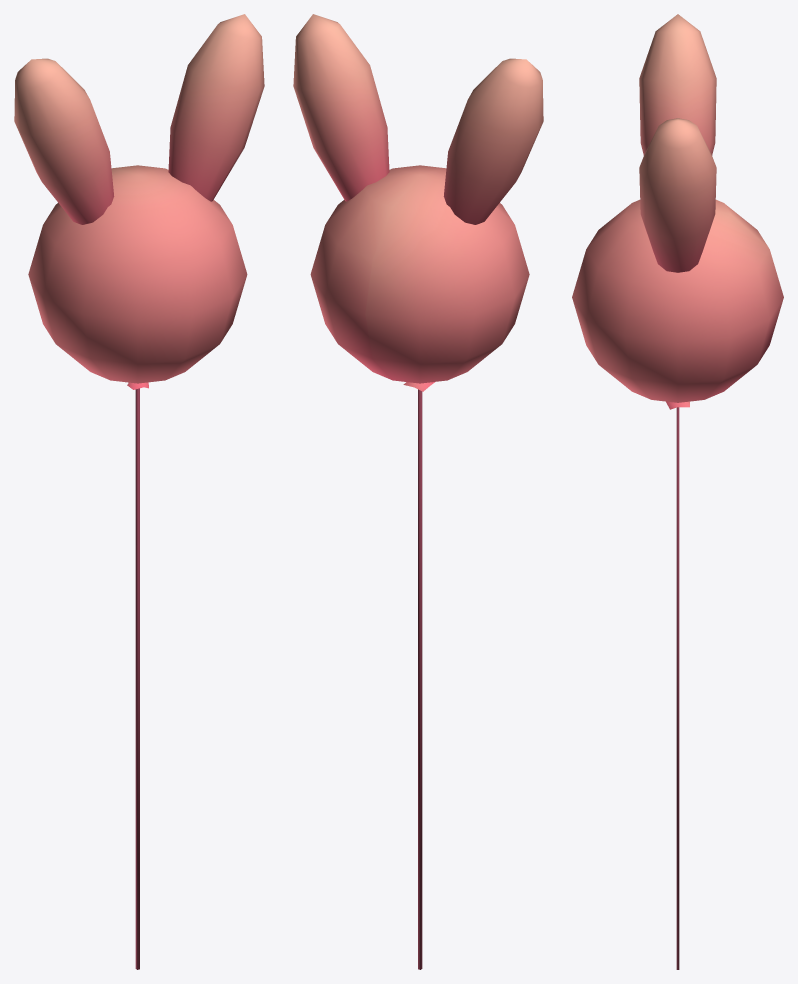
The model's file is Balloon.fbx.
The picture shows the model from 3 angles, left to right: view 1: azimuth 30°, elevation 25°; view 2: azimuth 150°, elevation 25°; view 3: azimuth 270°, elevation 25°; orthographic projection. The views are drawn at different scales.
Parts seen in each view (by area): view 1: BunnyBallon; view 2: BunnyBallon; view 3: BunnyBallon.
Boxes of the visible parts, x1=… form: BunnyBallon: x1=14, y1=14, x2=264, y2=969; BunnyBallon: x1=293, y1=14, x2=543, y2=969; BunnyBallon: x1=572, y1=14, x2=783, y2=969.
Size of the model in its own units: 0.7488 by 2.78 by 0.5907.
